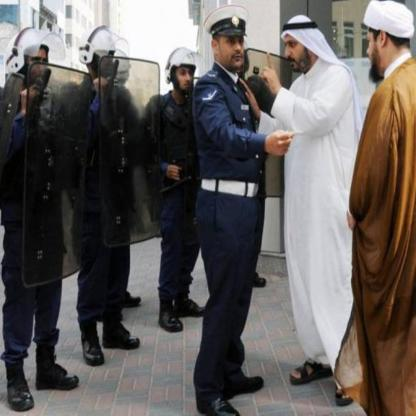face: (219, 28, 246, 69), (368, 24, 388, 72), (27, 47, 50, 88), (286, 29, 307, 72), (97, 50, 117, 84), (176, 63, 194, 94)
